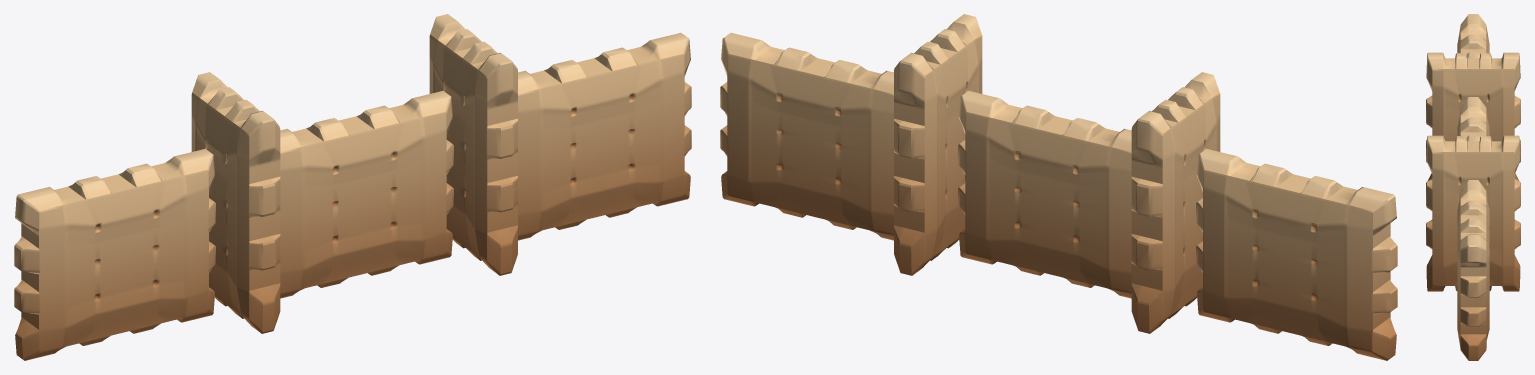
The model's file is Fence.fbx.
The picture shows the model from 3 angles, left to right: view 1: azimuth 30°, elevation 25°; view 2: azimuth 150°, elevation 25°; view 3: azimuth 270°, elevation 25°; orthographic projection. The views are drawn at different scales.
Parts seen in each view (by area): view 1: biscuit3, biscuit6, biscuit8, biscuit5, biscuit7; view 2: biscuit3, biscuit6, biscuit8, biscuit5, biscuit7; view 3: biscuit7, biscuit5, biscuit8, biscuit3, biscuit6.
Part boxes in pixels (x1,y1,x2,y2): biscuit3: (14,148,215,360); biscuit6: (280,91,453,298); biscuit8: (518,32,691,240); biscuit5: (191,72,280,333); biscuit7: (429,14,517,275); biscuit3: (1196,148,1397,360); biscuit6: (958,91,1131,298); biscuit8: (720,32,893,240); biscuit5: (1131,72,1220,333); biscuit7: (894,14,982,275); biscuit7: (1426,135,1520,291); biscuit5: (1426,52,1520,208); biscuit8: (1457,180,1489,360); biscuit3: (1457,14,1489,58); biscuit6: (1457,97,1489,141).
Size of the model in its own units: 4.93 by 1.49 by 0.844.
